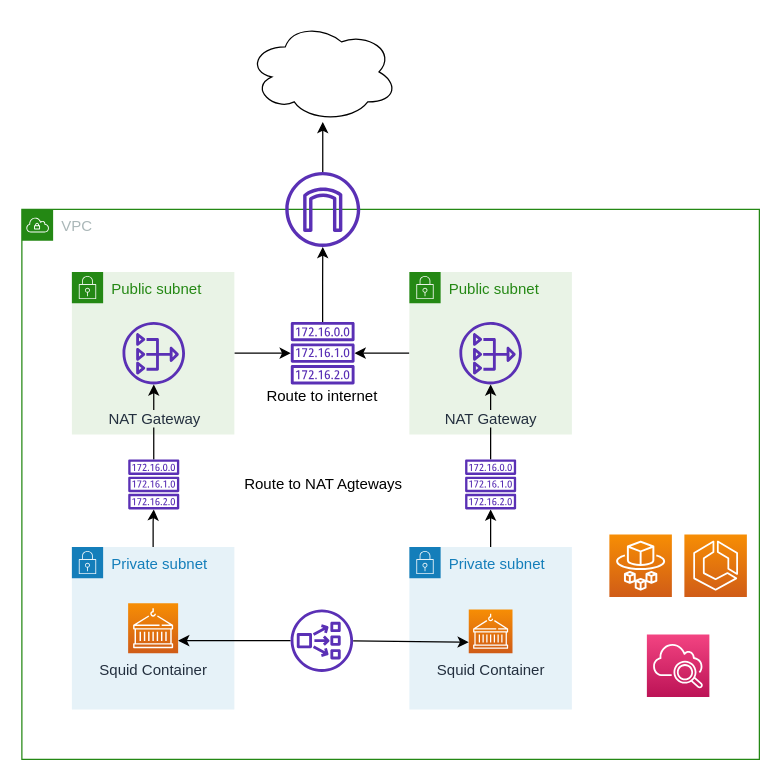
Some shapes in this 781 by 781 pixel diagram are drawn without their labels. The shapes that lost their labels are listed below. From the top down, each one's centre as x and y in pixels, then its label:
the point at 322,71: Internet
the point at 640,565: Fargate
the point at 715,565: ECS
the point at 321,640: Network load balancer
the point at 677,665: CloudWatch logs
